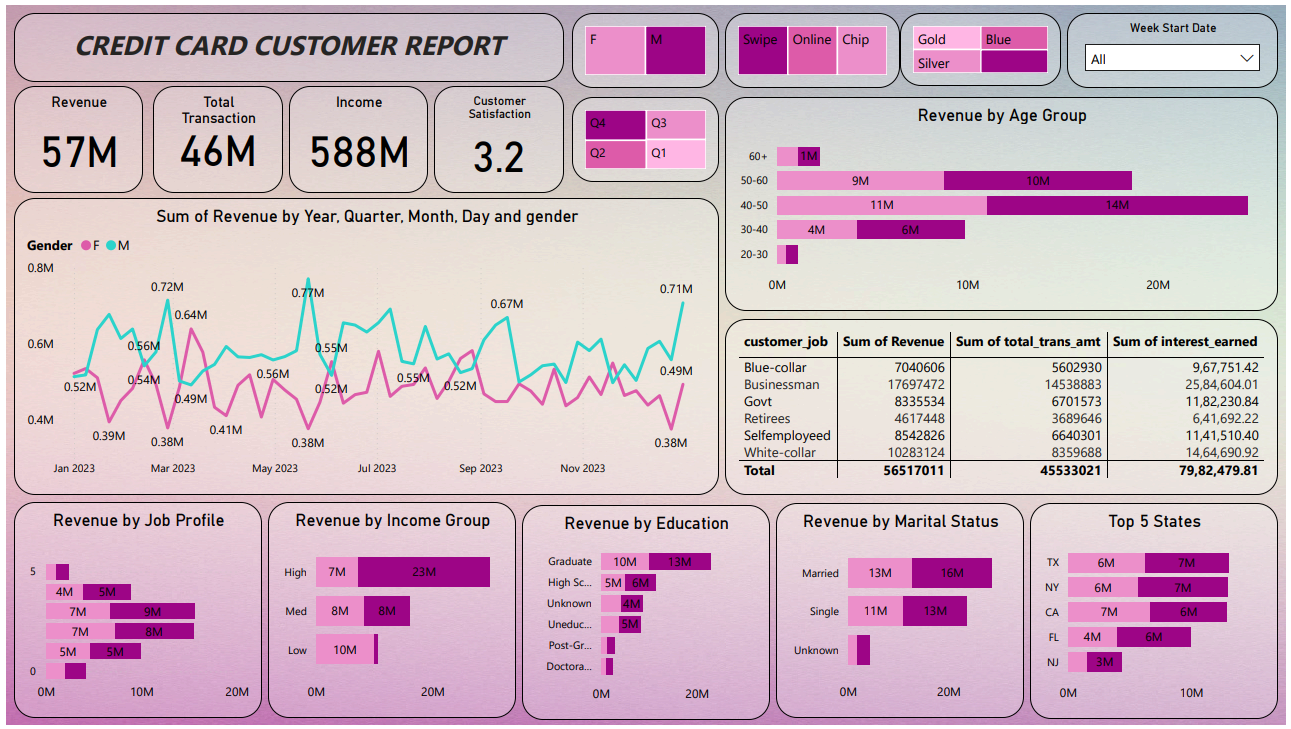

The dashboard page shown, as its layout file describes it:
{"tool":"powerbi","page":{"name":"CC Customer","canvas":[1280,720],"ordinal":1},"visuals":[{"type":"barChart","title":"Revenue by Income Group","fields":{"Category":["public cust_detail.IncomeGroup"],"Y":["Sum(public cc_detail.Revenue)"],"Series":["public cust_detail.gender"]},"box":[262.1,497.4,247.8,215.5],"z":0},{"type":"tableEx","fields":{"Values":["public cust_detail.customer_job","Sum(public cc_detail.Revenue)","Sum(public cc_detail.total_trans_amt)","Sum(public cc_detail.interest_earned)"]},"box":[719.1,314.2,553,176],"z":1},{"type":"card","title":"Revenue","fields":{"Values":["Sum(public cc_detail.Revenue)"]},"box":[8.1,80.8,129.3,106.8],"z":2},{"type":"card","title":"Total Transaction","fields":{"Values":["Sum(public cc_detail.total_trans_amt)"]},"box":[147.2,80.8,129.3,106.8],"z":3},{"type":"card","title":"Income","fields":{"Values":["Sum(public cust_detail.income)"]},"box":[289.1,80.8,129.3,106.8],"z":4},{"type":"card","title":"Customer Satisfaction","fields":{"Values":["Avg(public cust_detail.cust_satisfaction_score)"]},"box":[428.2,80.8,129.3,106.8],"z":5},{"type":"slicer","title":"Week Start Date","fields":{"Values":["public cc_detail.week_start_date"]},"box":[1061.1,8.1,211,75.4],"z":6},{"type":"treemap","fields":{"Group":["public cc_detail.qtr"],"Values":["CountNonNull(public cc_detail.client_num)"]},"box":[565.6,92.5,147.2,84.4],"z":7},{"type":"treemap","fields":{"Values":["Avg(public cc_detail.client_num)"],"Group":["public cust_detail.gender"]},"box":[565.6,8.1,147.2,75.4],"z":8},{"type":"treemap","fields":{"Values":["Avg(public cc_detail.client_num)"],"Group":["public cc_detail.use_chip"]},"box":[719.1,8.1,175.1,75.4],"z":9},{"type":"textbox","box":[8.1,8.1,549.4,69.1],"z":11},{"type":"lineChart","fields":{"Y":["Sum(public cc_detail.Revenue)"],"Series":["public cust_detail.gender"],"Category":["public cc_detail.week_start_date.Variation.Date Hierarchy.Year","public cc_detail.week_start_date.Variation.Date Hierarchy.Quarter","public cc_detail.week_start_date.Variation.Date Hierarchy.Month","public cc_detail.week_start_date.Variation.Date Hierarchy.Day"]},"box":[8.1,193,704.7,297.2],"z":12},{"type":"barChart","title":"Revenue by Age Group","fields":{"Y":["Sum(public cc_detail.Revenue)"],"Category":["public cust_detail.AgeGroup"],"Series":["public cust_detail.gender"]},"box":[719.1,92.5,553,213.7],"z":13},{"type":"barChart","title":"Revenue by Job Profile","fields":{"Y":["Sum(public cc_detail.Revenue)"],"Category":["public cust_detail.dependent_count"],"Series":["public cust_detail.gender"]},"box":[8.1,497.4,247.8,215.5],"z":14},{"type":"barChart","title":"Revenue by Education","fields":{"Y":["Sum(public cc_detail.Revenue)"],"Category":["public cust_detail.education_level"],"Series":["public cust_detail.gender"]},"box":[516.2,500,247.8,214.6],"z":15},{"type":"barChart","title":"Top 5 States","fields":{"Y":["Sum(public cc_detail.Revenue)"],"Category":["public cust_detail.state_cd"],"Series":["public cust_detail.gender"]},"box":[1024.3,498.3,247.8,215.5],"z":16},{"type":"barChart","title":"Revenue by Marital Status","fields":{"Y":["Sum(public cc_detail.Revenue)"],"Category":["public cust_detail.marital_status"],"Series":["public cust_detail.gender"]},"box":[770.3,498.3,247.8,214.6],"z":17},{"type":"treemap","fields":{"Values":["Avg(public cc_detail.client_num)"],"Group":["public cc_detail.card_category"]},"box":[894.2,8.1,160.7,72.7],"z":18}]}

Visuals, with their boxes in screenshot pixels (x1, y1, x2, y2), scaled from the page's 1280x720 canvas onto the 1291x729 screenshot:
"Revenue by Income Group" barChart: (264,504,514,722)
tableEx - public cust_detail.customer_job x Sum(public cc_detail.Revenue): (725,318,1283,496)
"Revenue" card: (8,82,139,190)
"Total Transaction" card: (148,82,279,190)
"Income" card: (292,82,422,190)
"Customer Satisfaction" card: (432,82,562,190)
"Week Start Date" slicer: (1070,8,1283,85)
treemap - public cc_detail.qtr x CountNonNull(public cc_detail.client_num): (570,94,719,179)
treemap - Avg(public cc_detail.client_num) x public cust_detail.gender: (570,8,719,85)
treemap - Avg(public cc_detail.client_num) x public cc_detail.use_chip: (725,8,902,85)
textbox: (8,8,562,78)
lineChart - Sum(public cc_detail.Revenue) x public cust_detail.gender: (8,195,719,496)
"Revenue by Age Group" barChart: (725,94,1283,310)
"Revenue by Job Profile" barChart: (8,504,258,722)
"Revenue by Education" barChart: (521,506,771,724)
"Top 5 States" barChart: (1033,505,1283,723)
"Revenue by Marital Status" barChart: (777,505,1027,722)
treemap - Avg(public cc_detail.client_num) x public cc_detail.card_category: (902,8,1064,82)
